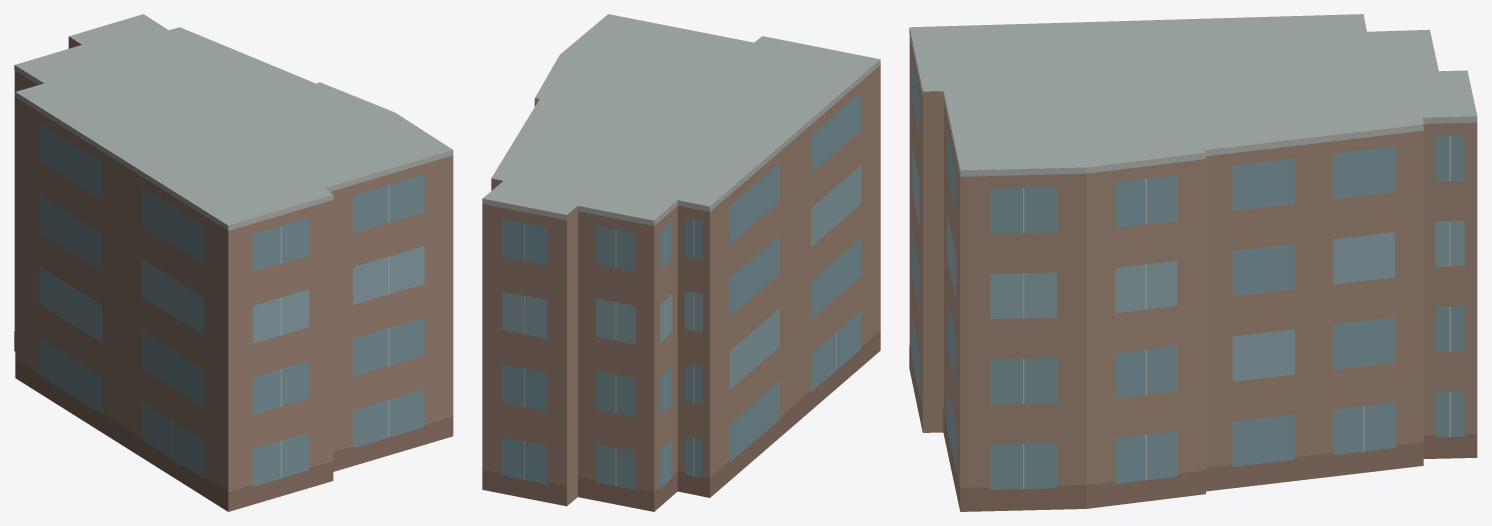
File: survey-upis-32982082.glb
3 renders of one model, left to right at view 1: azimuth 30°, elevation 25°; view 2: azimuth 150°, elevation 25°; view 3: azimuth 270°, elevation 25°, orthographic. The views are drawn at different scales.
Parts seen in each view (by area): view 1: survey-upis-32982082.tmp; view 2: survey-upis-32982082.tmp; view 3: survey-upis-32982082.tmp.
Part boxes in pixels (box(x1,y1,x2,y2)): survey-upis-32982082.tmp: box(14, 14, 453, 511); survey-upis-32982082.tmp: box(482, 14, 880, 511); survey-upis-32982082.tmp: box(909, 14, 1477, 511).
Bounding box in the file's own units: 13.09 × 13.3 × 20.07.
